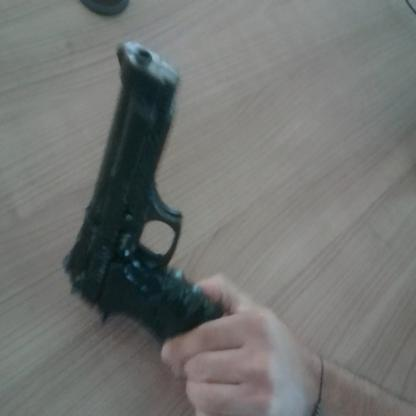handgun: (63, 31, 242, 342)
